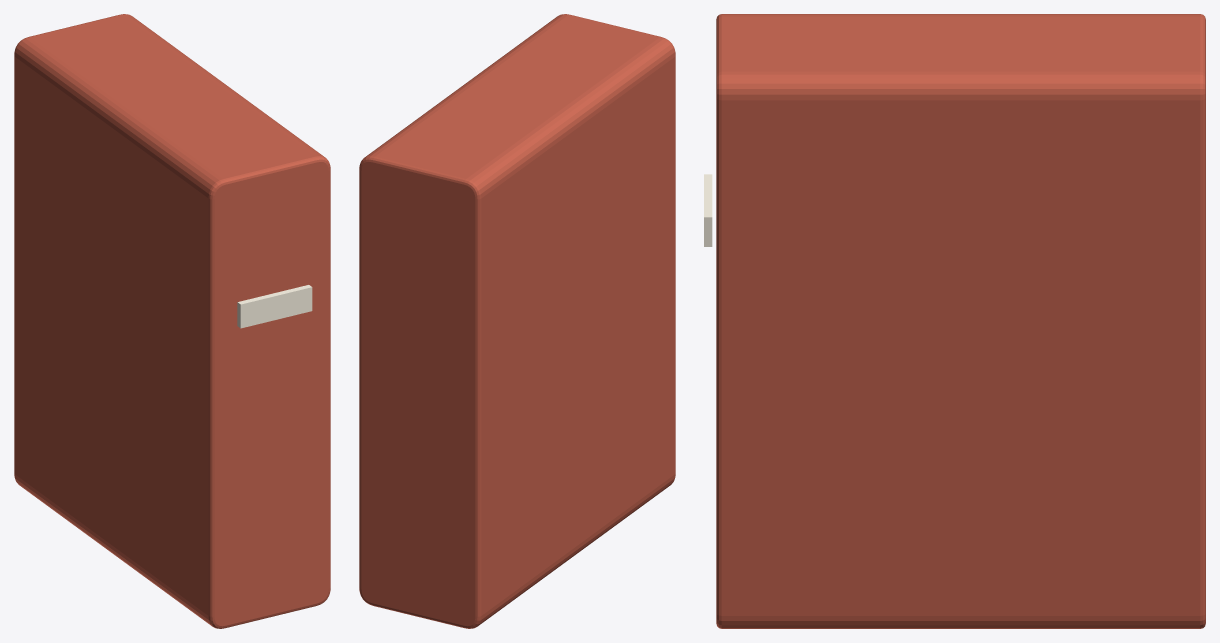
Rendered from book-1.glb.
3 views of the same model, side by side, from view 1: azimuth 30°, elevation 25°; view 2: azimuth 150°, elevation 25°; view 3: azimuth 270°, elevation 25° (orthographic). The views are drawn at different scales.
Parts seen in each view (by area): view 1: book-1; view 2: book-1; view 3: book-1.
Boxes of the visible parts, x1=… form: book-1: x1=14, y1=14, x2=330, y2=628; book-1: x1=359, y1=14, x2=675, y2=628; book-1: x1=704, y1=14, x2=1205, y2=628.
Bounding box in the file's own units: 0.085 × 0.3 × 0.246.
